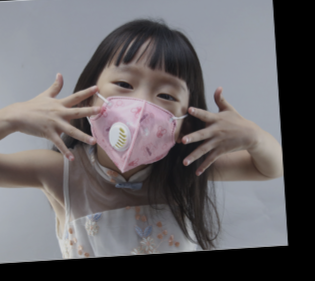with_mask: (88, 61, 190, 172)
